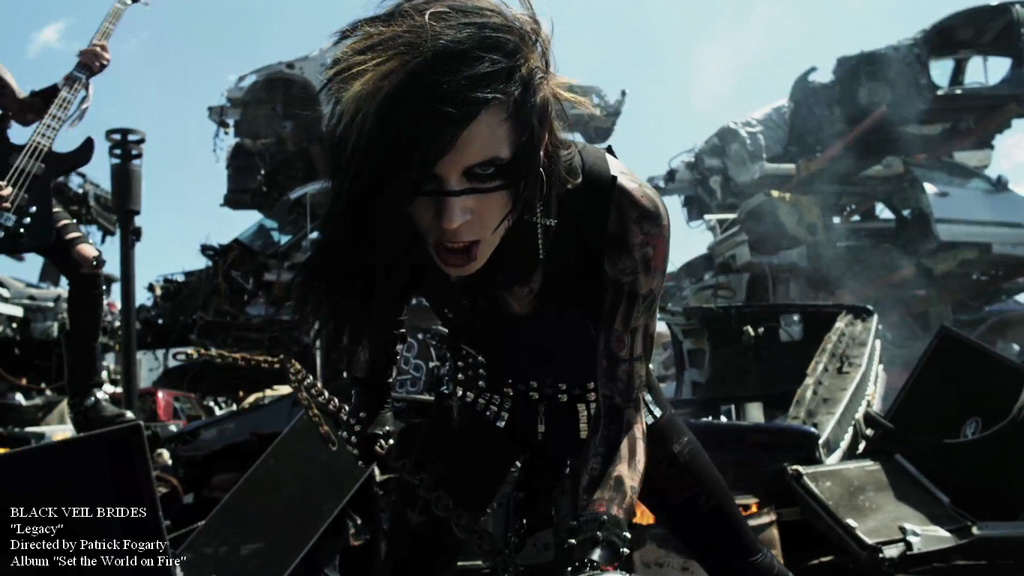Person: (278, 0, 670, 576)
